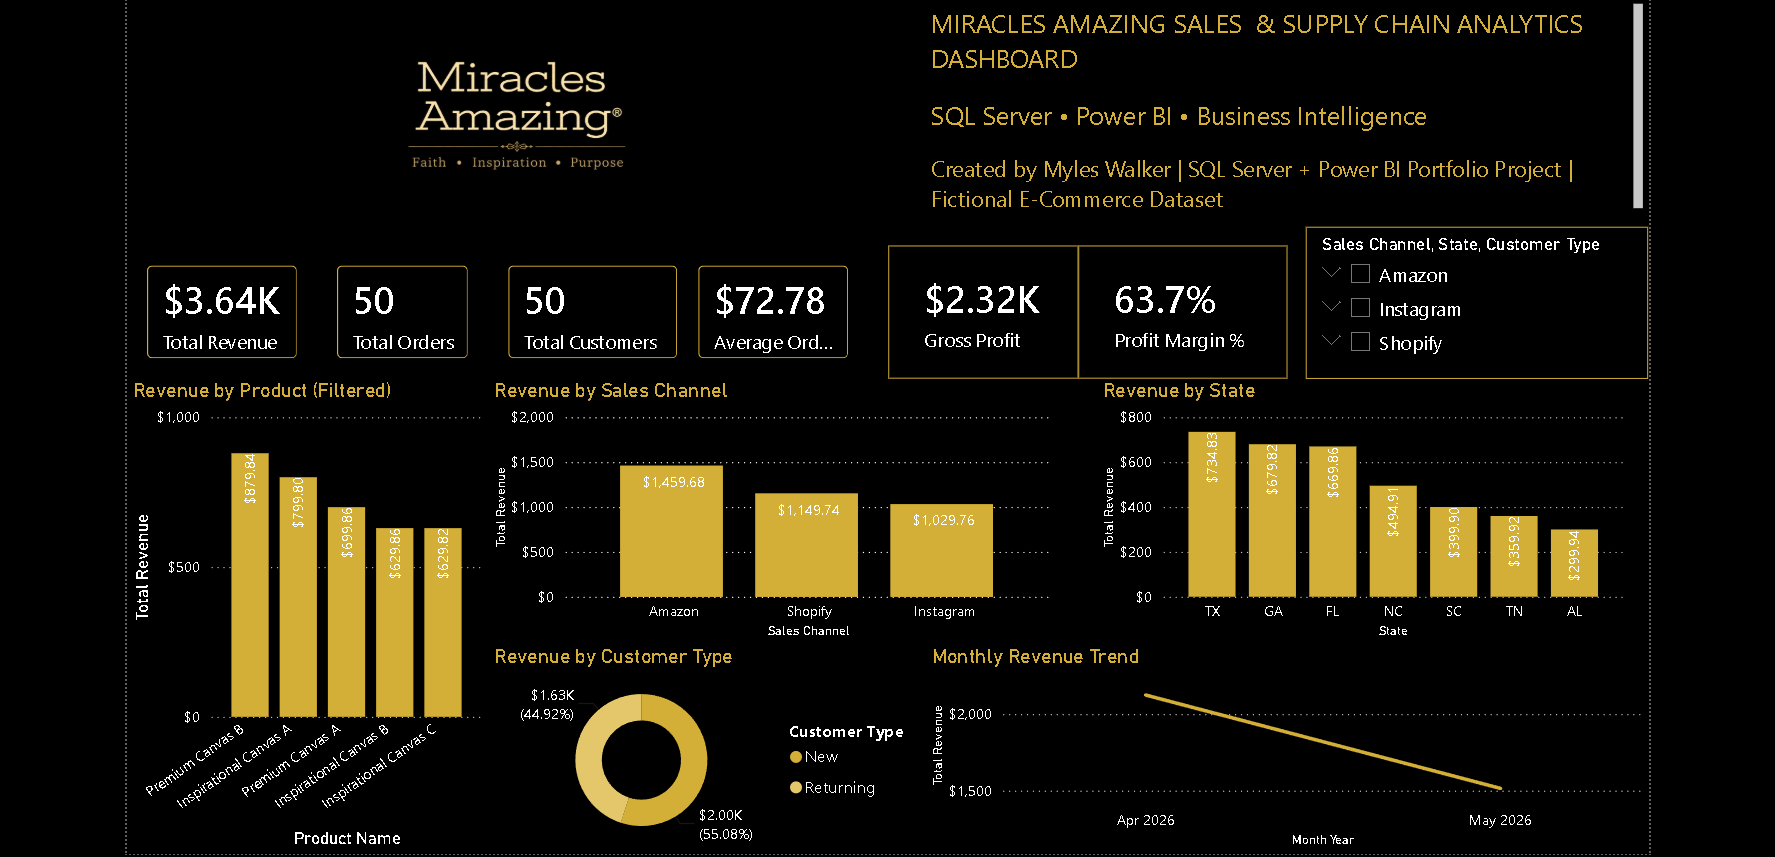

The page's visual inventory and layout, read from the dashboard file:
{"tool":"powerbi","page":{"name":"Executive Overview","canvas":[1280,720],"ordinal":0},"visuals":[{"type":"cardVisual","fields":{"Data":["Customers.Total Revenue"]},"box":[0,208,160,112],"z":0},{"type":"cardVisual","fields":{"Data":["Customers.Total Orders"]},"box":[160,208,144,112],"z":1000},{"type":"cardVisual","fields":{"Data":["Customers.Total Customers"]},"box":[304,208,176,112],"z":2000},{"type":"clusteredColumnChart","title":"Revenue by Sales Channel","fields":{"Category":["Orders.SalesChannel"],"Y":["Customers.Total Revenue"]},"box":[304,320,480,224],"z":3000},{"type":"clusteredColumnChart","title":"Revenue by State","fields":{"Category":["Customers.State"],"Y":["Customers.Total Revenue"]},"box":[816,320,448,224],"z":4000},{"type":"donutChart","title":"Revenue by Customer Type","fields":{"Category":["Customers.CustomerType"],"Y":["Customers.Total Revenue"]},"box":[304,544,368,176],"z":5000},{"type":"clusteredColumnChart","title":"Revenue by Product (Filtered)","fields":{"Category":["Products.ProductName"],"Y":["Customers.Total Revenue"]},"box":[0,320,304,400],"z":6000},{"type":"lineChart","title":"Monthly Revenue Trend","fields":{"Category":["Orders.MonthYear"],"Y":["Customers.Total Revenue"]},"box":[672,544,608,176],"z":7000},{"type":"textbox","box":[672,0,608,192],"z":8000},{"type":"image","box":[0,0,656,192],"z":9000},{"type":"cardVisual","fields":{"Data":["Orders.Average Order Value"]},"box":[464,208,160,112],"z":10000},{"type":"slicer","fields":{"Values":["Orders.SalesChannel","Customers.State","Customers.CustomerType"]},"box":[992,192,288,128],"z":11000},{"type":"cardVisual","fields":{"Data":["Products.Gross Profit"]},"box":[640,208,160,112],"z":12000},{"type":"cardVisual","fields":{"Data":["Products.Profit Margin %"]},"box":[800,208,176,112],"z":13000}]}

Visuals, with their boxes on the page's 1280x720 design canvas (x1, y1, x2, y2). These are canvas units, not pixel positions in the 1775x857 screenshot, which may show the page scaled, cropped or inside an application window:
cardVisual - Customers.Total Revenue: bbox=(0, 208, 160, 320)
cardVisual - Customers.Total Orders: bbox=(160, 208, 304, 320)
cardVisual - Customers.Total Customers: bbox=(304, 208, 480, 320)
"Revenue by Sales Channel" clusteredColumnChart: bbox=(304, 320, 784, 544)
"Revenue by State" clusteredColumnChart: bbox=(816, 320, 1264, 544)
"Revenue by Customer Type" donutChart: bbox=(304, 544, 672, 720)
"Revenue by Product (Filtered)" clusteredColumnChart: bbox=(0, 320, 304, 720)
"Monthly Revenue Trend" lineChart: bbox=(672, 544, 1280, 720)
textbox: bbox=(672, 0, 1280, 192)
image: bbox=(0, 0, 656, 192)
cardVisual - Orders.Average Order Value: bbox=(464, 208, 624, 320)
slicer - Orders.SalesChannel x Customers.State: bbox=(992, 192, 1280, 320)
cardVisual - Products.Gross Profit: bbox=(640, 208, 800, 320)
cardVisual - Products.Profit Margin %: bbox=(800, 208, 976, 320)
